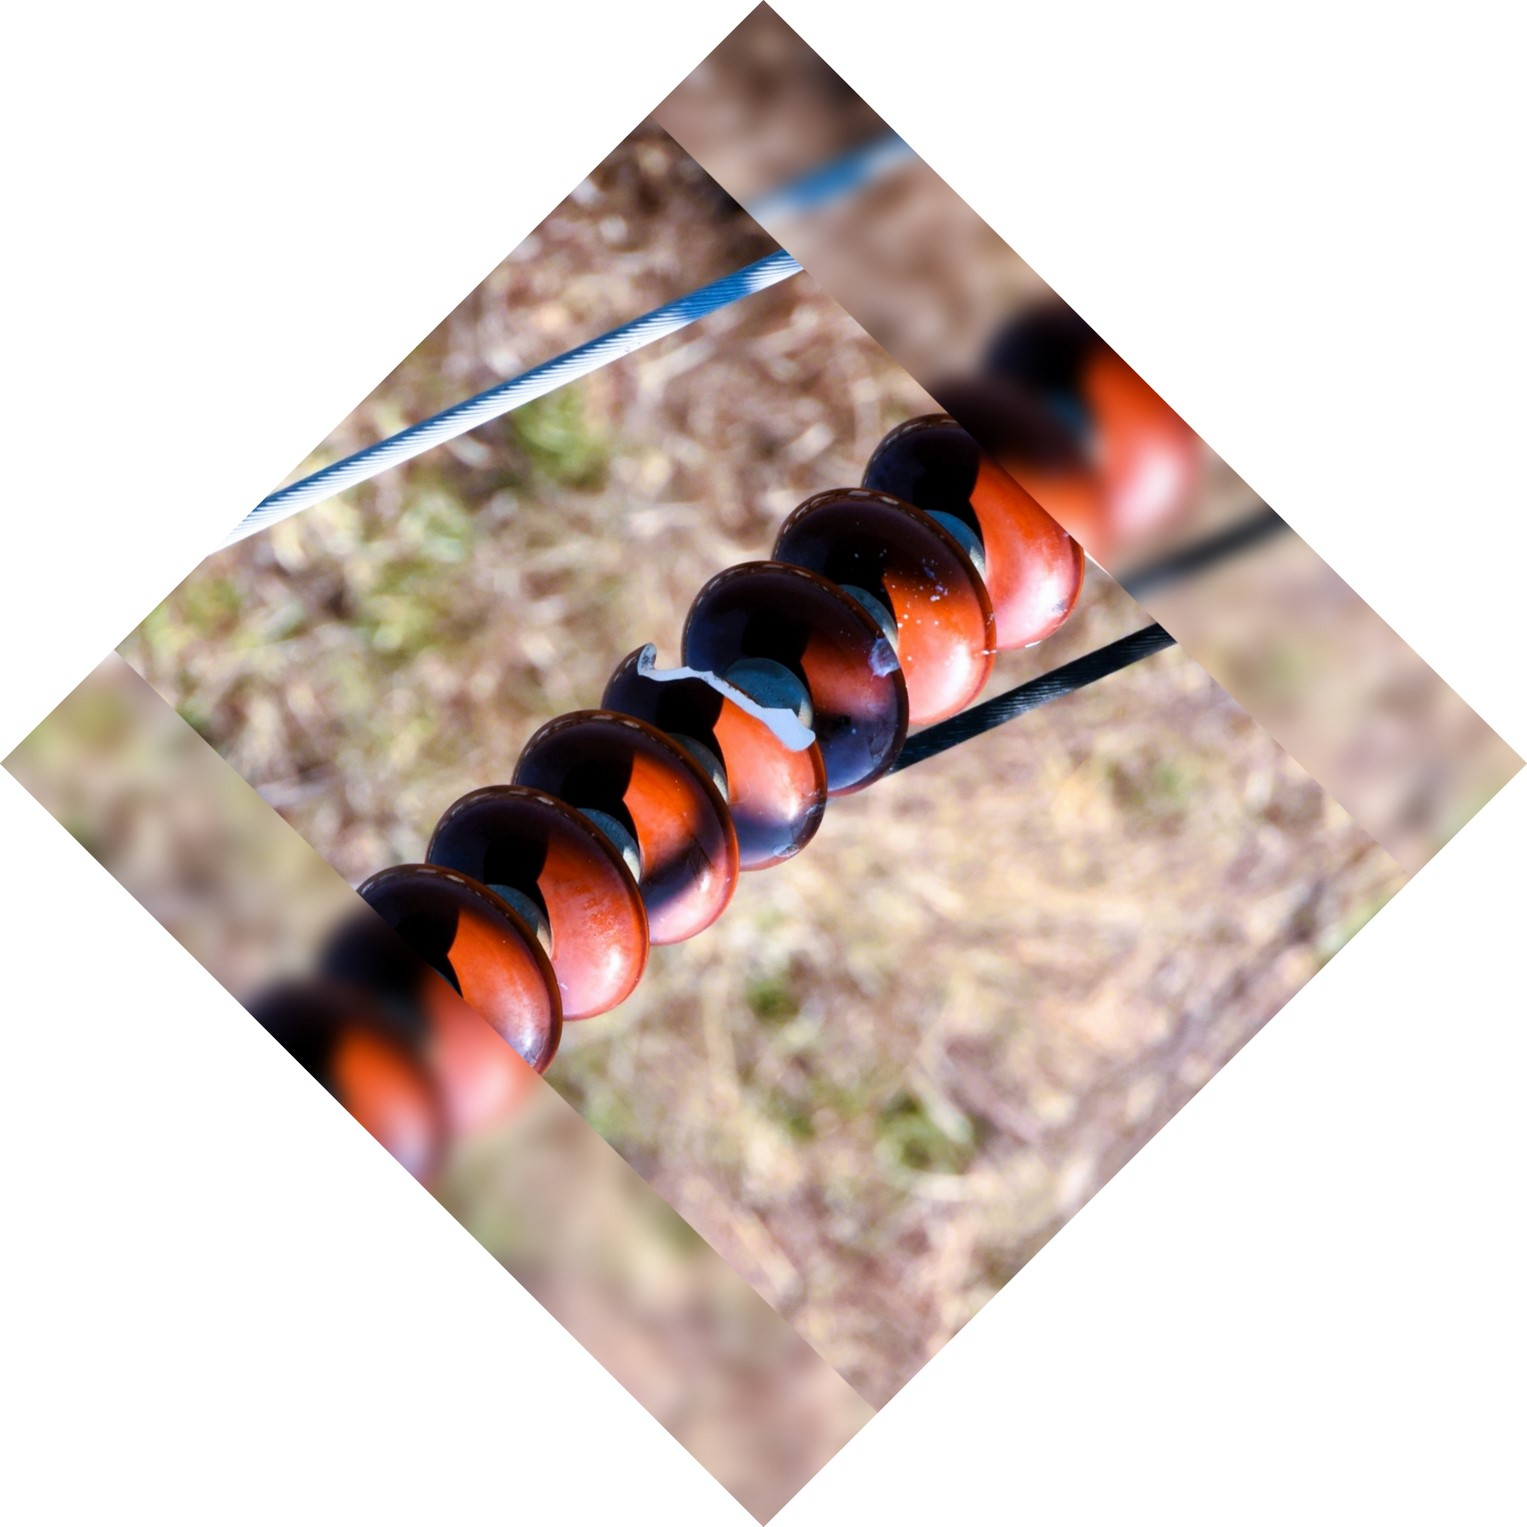insulator breakage: (605, 617, 833, 874)
